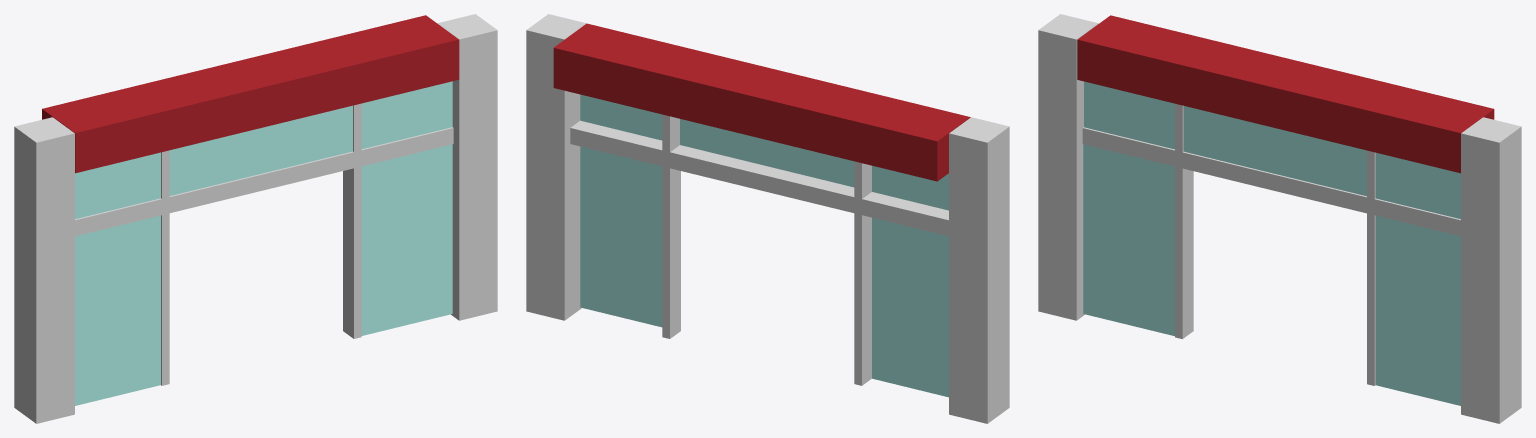
File: Pachinko.obj
3 renders of one model, left to right at view 1: azimuth 30°, elevation 25°; view 2: azimuth 150°, elevation 25°; view 3: azimuth 330°, elevation 25°, orthographic.
Visible parts, largest first — view 1: ドア上.006; view 2: ドア上.006; view 3: ドア上.006.
Boxes of the visible parts, x1,y1,x2,y2 form: ドア上.006: [14, 14, 497, 423]; ドア上.006: [526, 14, 1009, 423]; ドア上.006: [1038, 14, 1521, 423].
Size of the model in its own units: 24.03 by 14 by 3.01.
